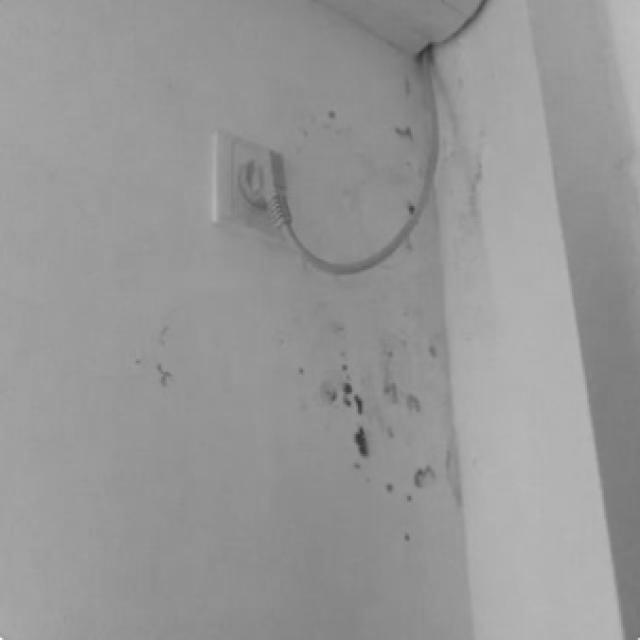stain marks: (279, 260, 462, 545), (286, 71, 434, 218), (438, 58, 492, 310), (122, 287, 198, 401)
